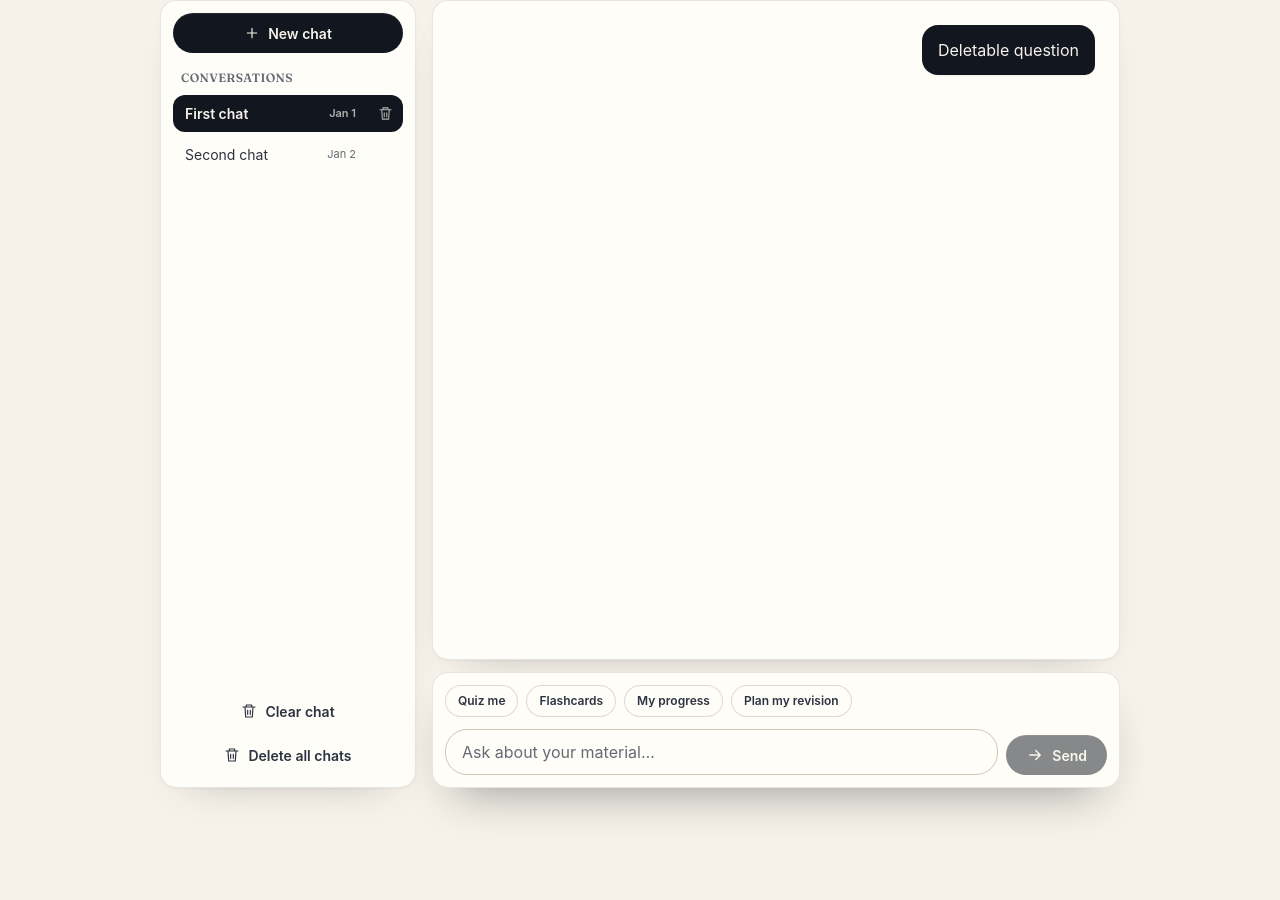
Scenario: deletes the open conversation after a single confirmation
Expected: the text "Deletable question" is shown, [938,37,1079,63]
Click the button named "Delete First chat" at (386, 114), box [372,100,399,127]
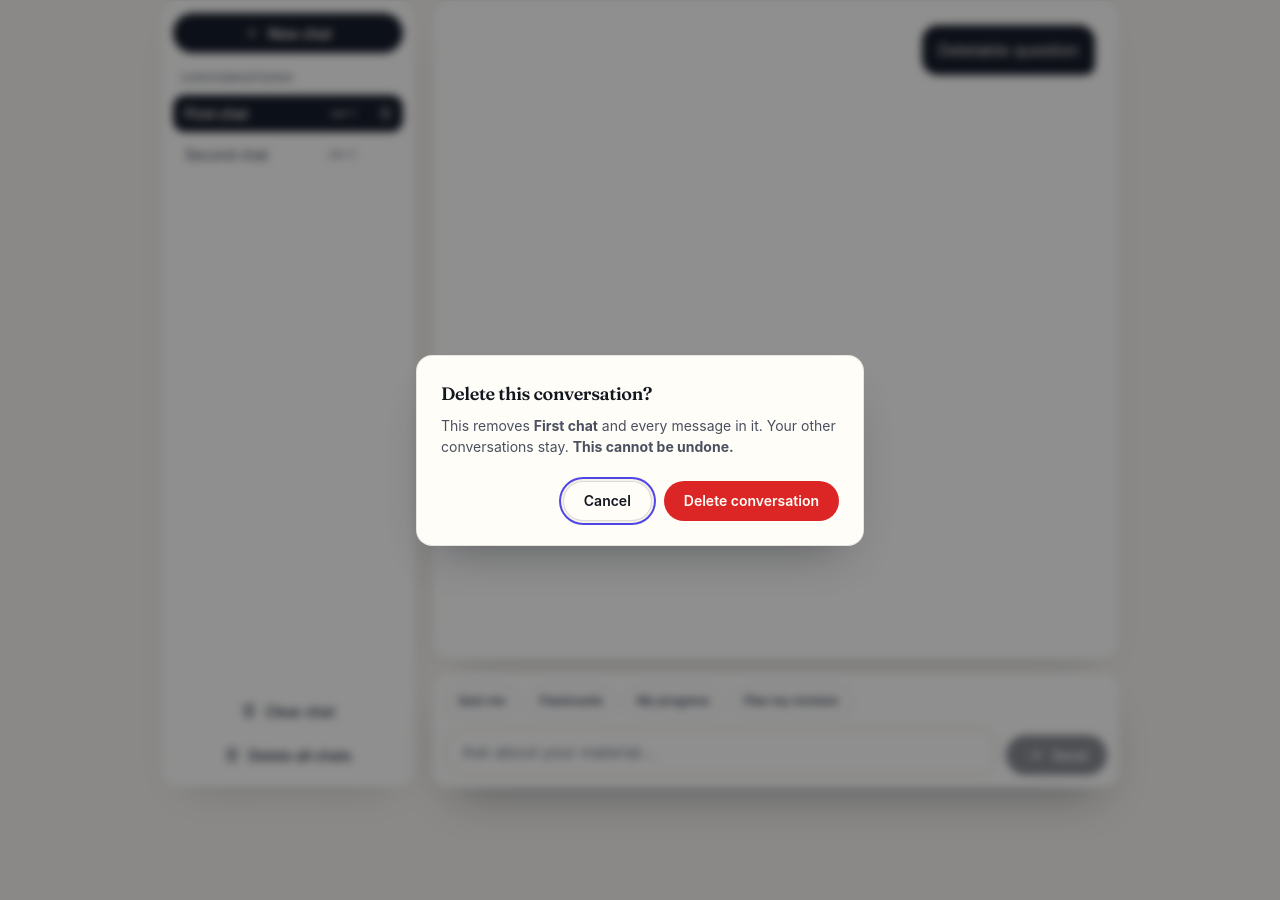
Click the button "Delete conversation" at (751, 500), box [664,480,839,520]
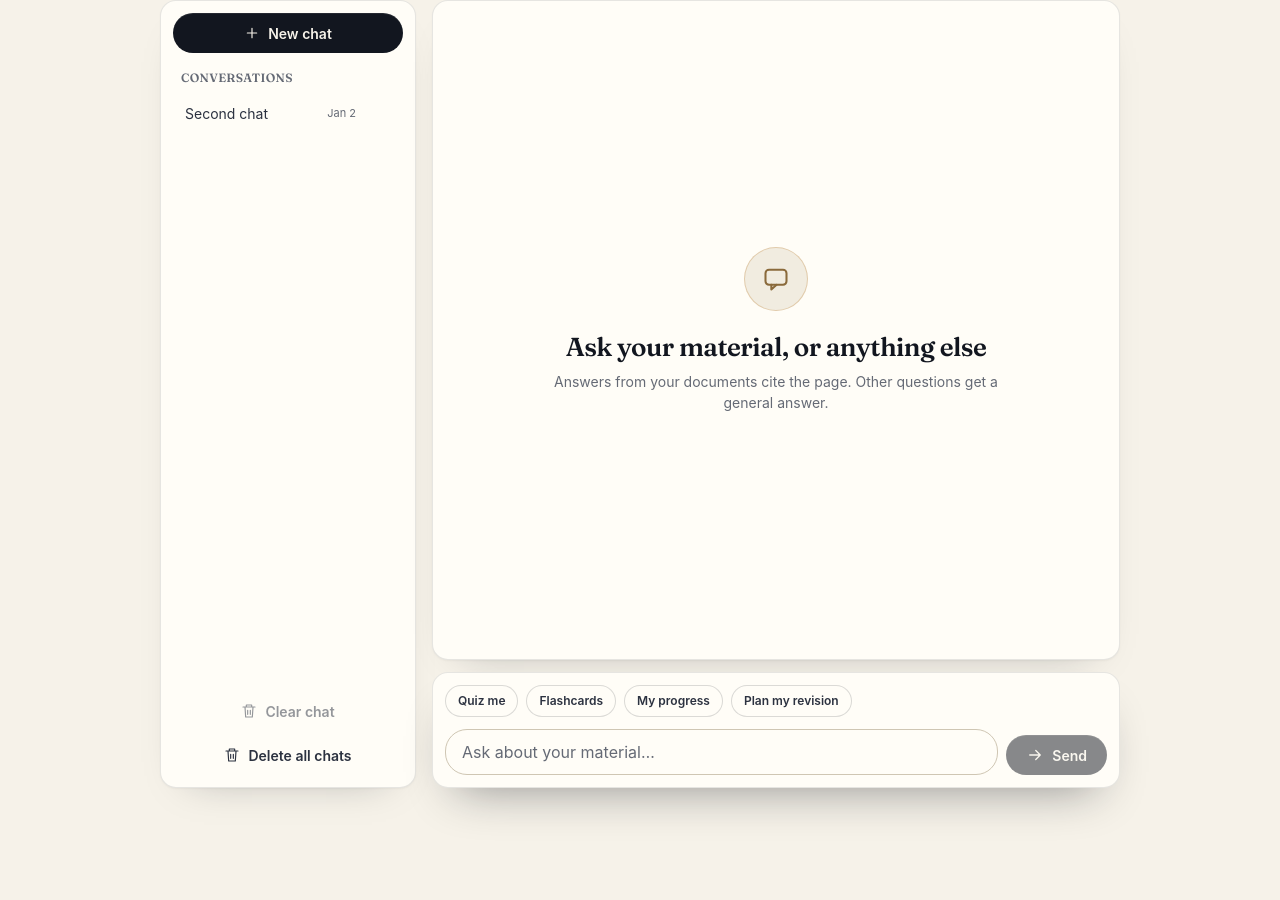
Expected: the heading "Ask your material, or anything else" is shown, [566,331,986,363]
Expected: the button "First chat" is gone
Expected: the dialog is gone
